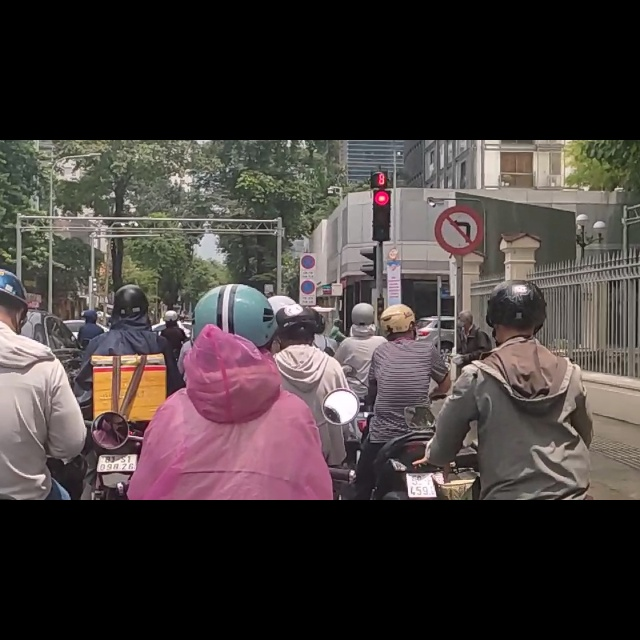bien_cam: (435, 116, 483, 210), (301, 203, 316, 231), (300, 248, 315, 276)
